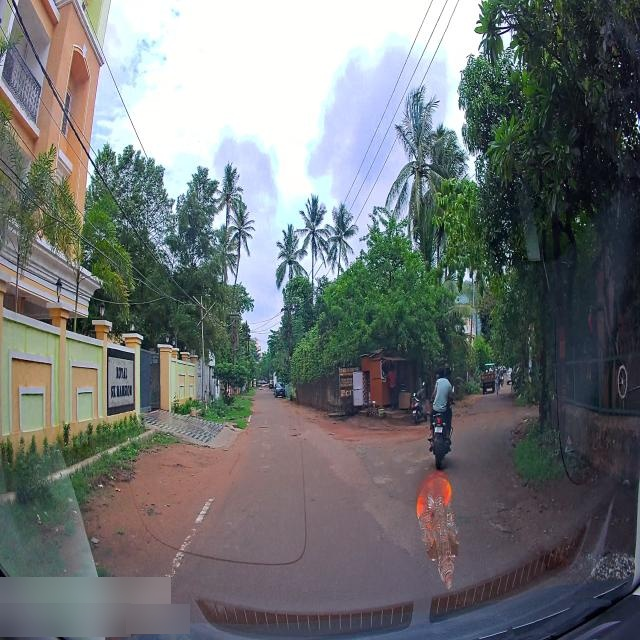pothole: (257, 425, 270, 430), (291, 433, 303, 438), (291, 426, 300, 432)
